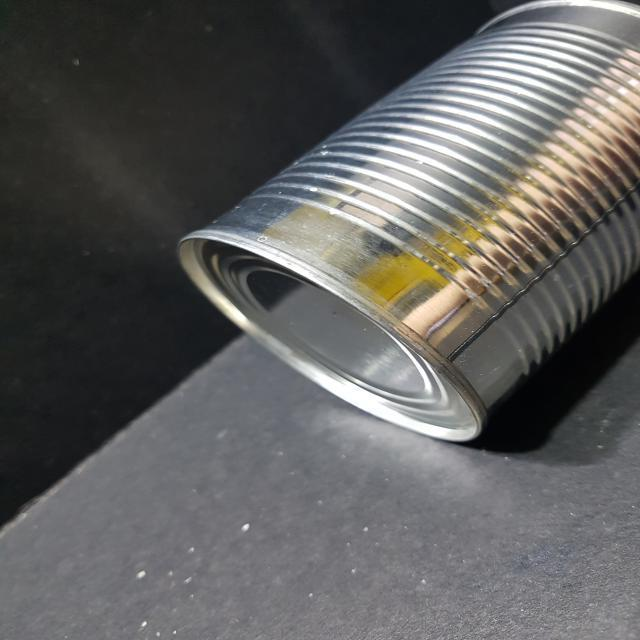metal: (172, 0, 640, 445)
